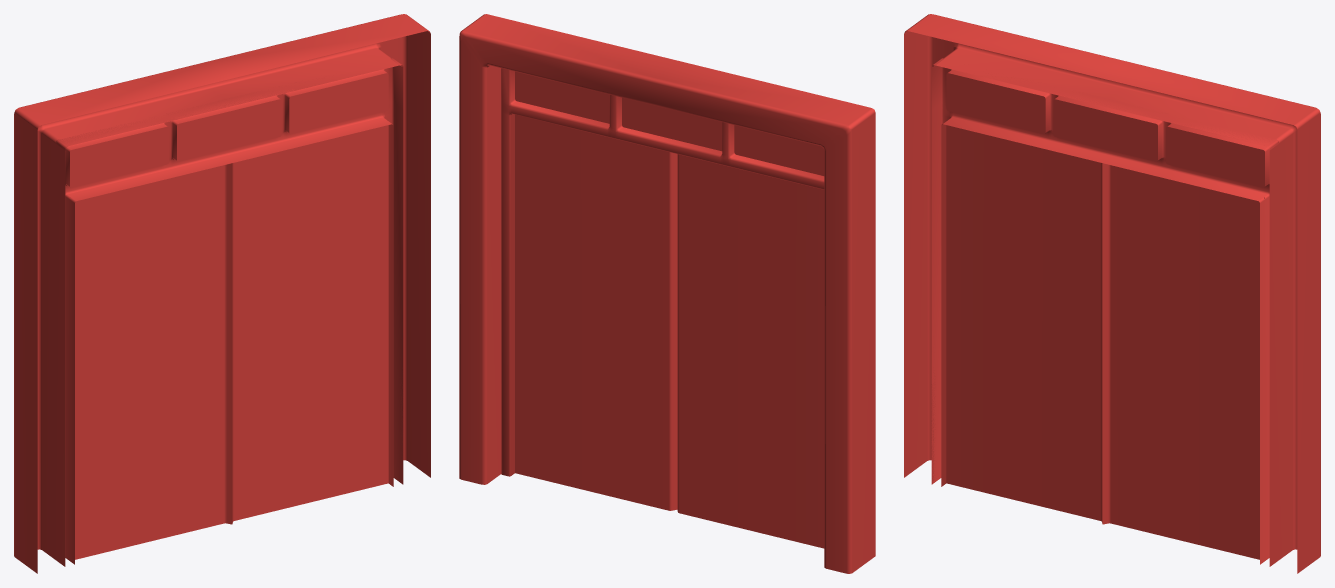
The model's file is sm_porta_principal.fbx.
3 renders of one model, left to right at view 1: azimuth 30°, elevation 25°; view 2: azimuth 150°, elevation 25°; view 3: azimuth 330°, elevation 25°, orthographic.
Parts seen in each view (by area): view 1: sm_porta_principal; view 2: sm_porta_principal; view 3: sm_porta_principal.
Part boxes in pixels (x1,y1,x2,y2): sm_porta_principal: [14, 14, 430, 573]; sm_porta_principal: [459, 14, 875, 573]; sm_porta_principal: [904, 14, 1320, 573].
Bounding box in the file's own units: 2.3 × 2.51 × 0.2558.
